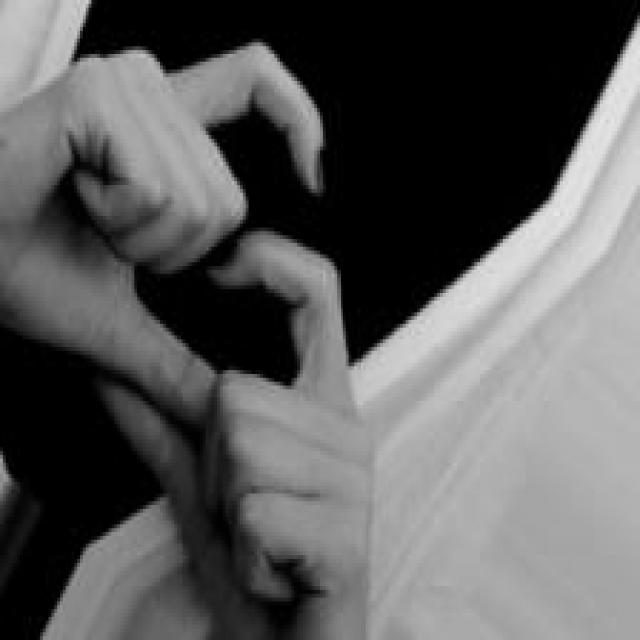G: (0, 34, 374, 640)
